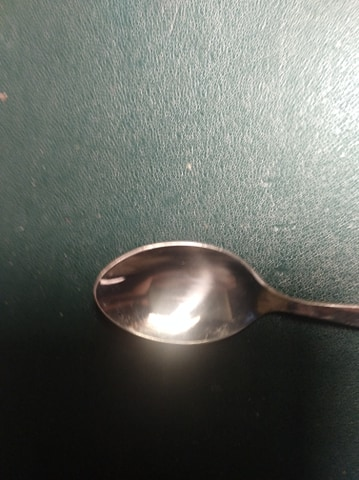Lyzka: (86, 238, 275, 345)
